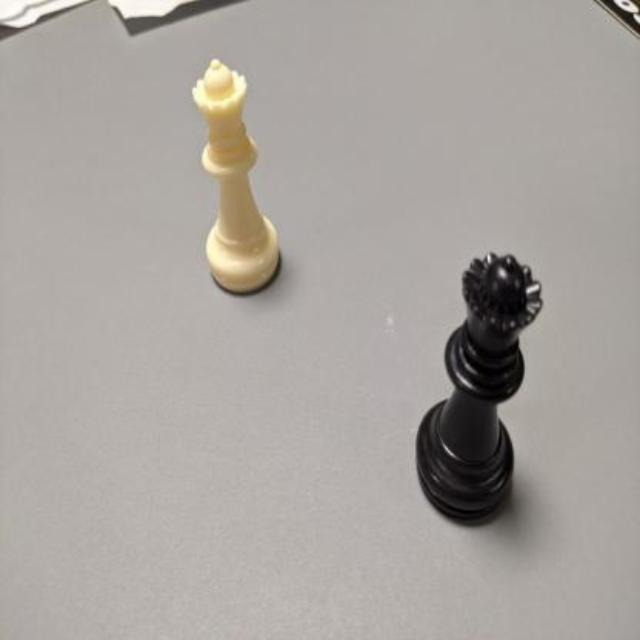black-queen: (414, 250, 541, 520)
white-queen: (192, 57, 280, 295)
